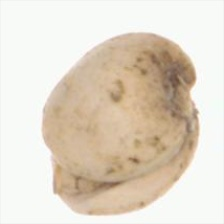L3: (42, 124, 65, 202)
L4: (42, 32, 201, 216)
